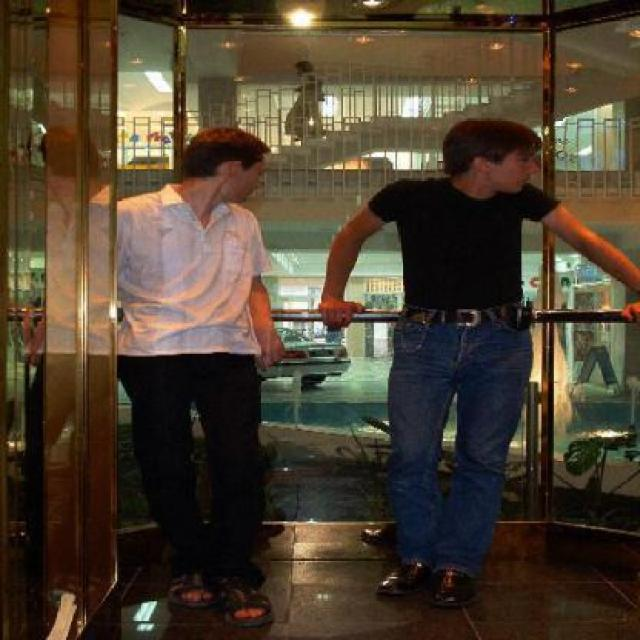Person: (44, 581, 82, 639)
